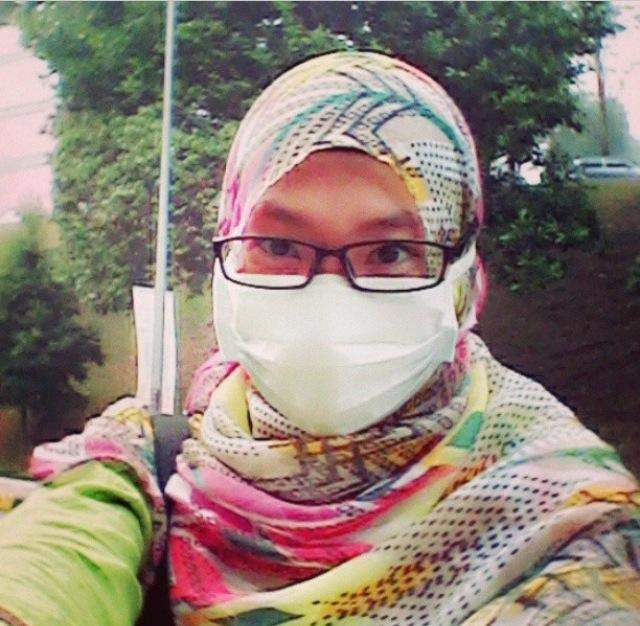Wearing Mask: (120, 1, 541, 478)
